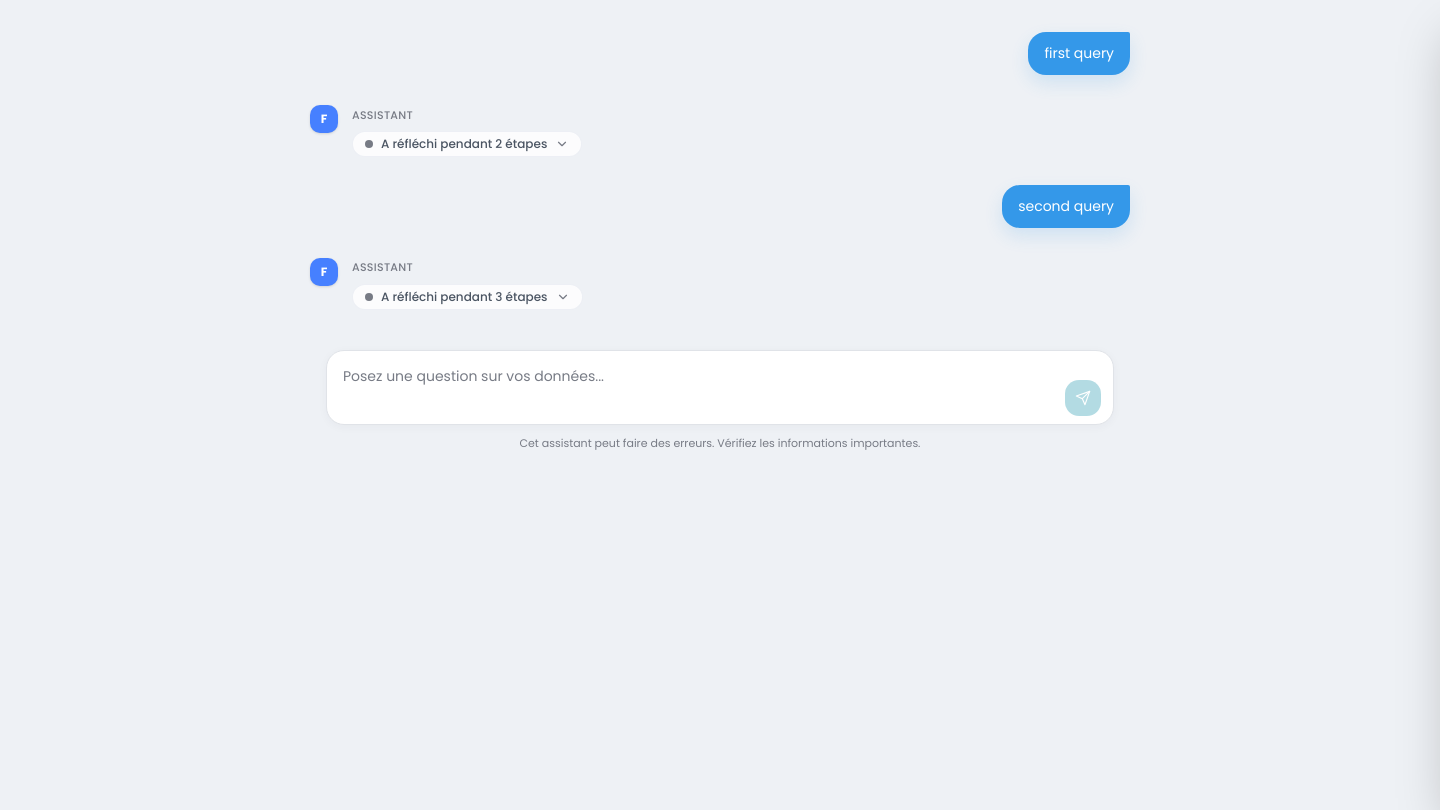
Test: ChatPage drawer per-message thinking › reveals the specific query thinking when its strip is clicked, not the latest
Click the button "A réfléchi pendant 2 étapes": (467, 144) [352, 131, 582, 157]
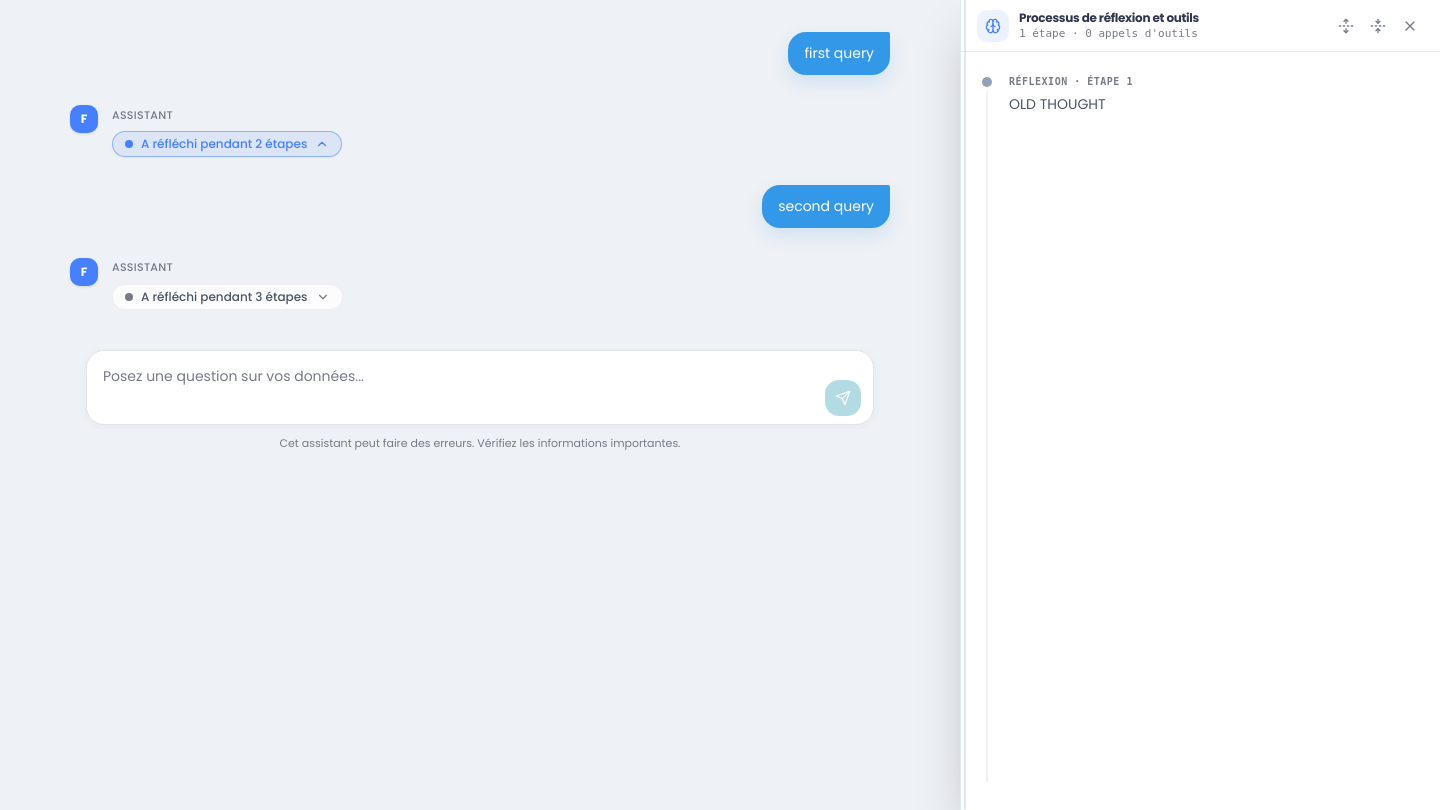
Result: the text "OLD THOUGHT" is shown at [1009, 94, 1106, 114]
Result: the text "NEW THOUGHT" is gone
